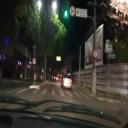NoEstacionar: (93, 48, 98, 60)
speed_limit_50: (30, 56, 38, 66)
